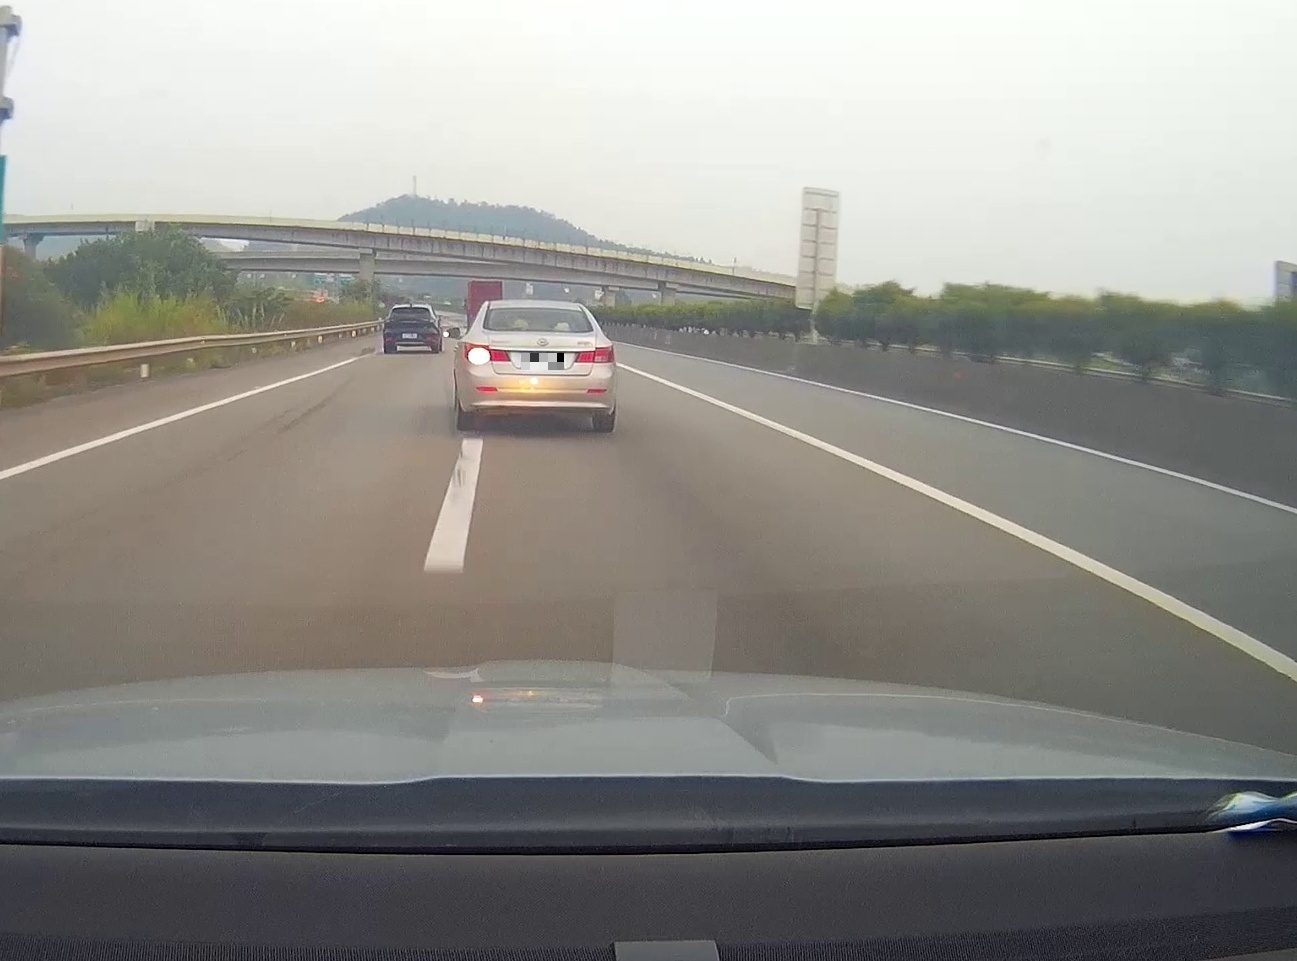L_light: (464, 343, 511, 362), (385, 319, 393, 325), (406, 306, 416, 309)
R_light: (575, 345, 615, 363), (429, 319, 437, 325)
T_light: (524, 306, 545, 310)
day-left: (455, 300, 616, 434)
day-no: (382, 305, 440, 354)
plate_1: (521, 353, 564, 370)
